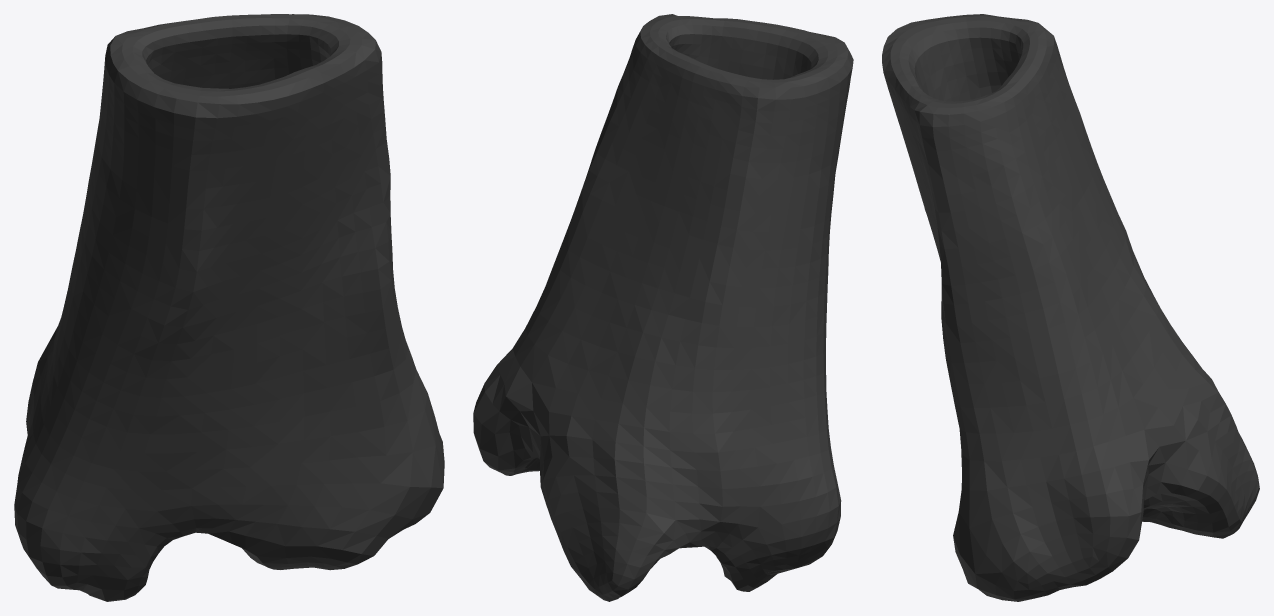
Rendered from Tibia.glb.
3 renders of one model, left to right at view 1: azimuth 30°, elevation 25°; view 2: azimuth 150°, elevation 25°; view 3: azimuth 270°, elevation 25°, orthographic. The views are drawn at different scales.
Parts seen in each view (by area): view 1: Tibia; view 2: Tibia; view 3: Tibia.
Part boxes in pixels (x1,y1,x2,y2): Tibia: (14, 14, 444, 601); Tibia: (473, 14, 853, 601); Tibia: (882, 14, 1259, 601).
Size of the model in its own units: 188 by 263 by 180.
1 material, 1 textured.
